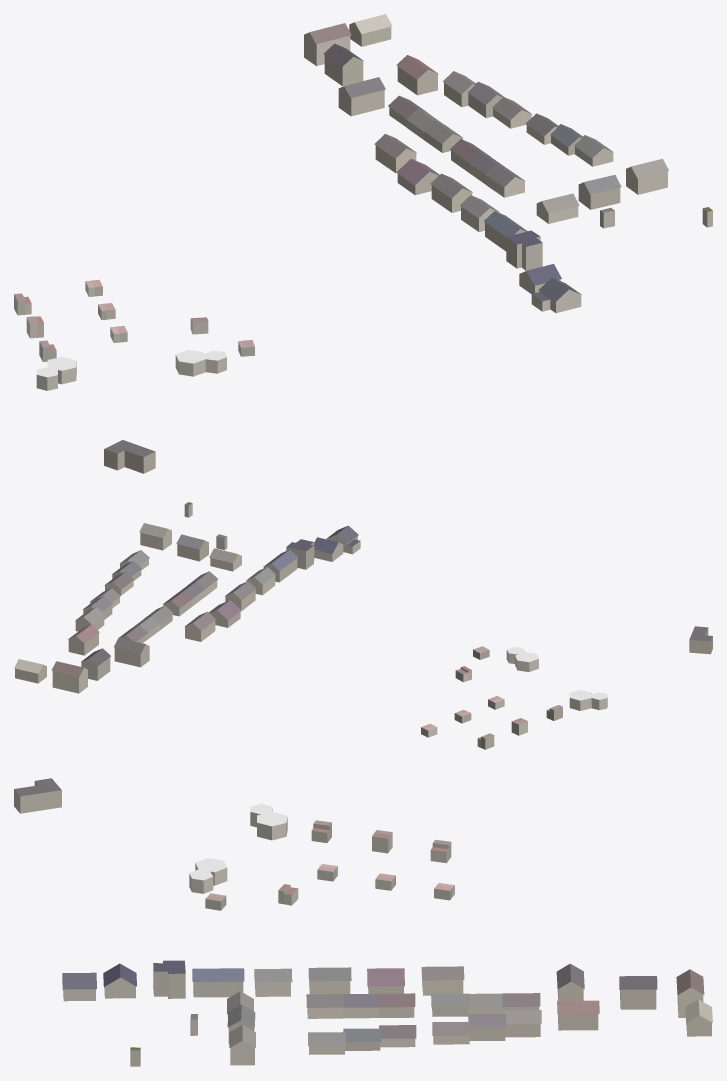
3 renders of one model, top to bottom at view 1: azimuth 30°, elevation 25°; view 2: azimuth 150°, elevation 25°; view 3: azimuth 270°, elevation 25°, orthographic. The views are drawn at different scales.
Visible parts, largest first — view 1: tuile; view 2: tuile; view 3: tuile.
Part boxes in pixels (bbox=[...]): tuile: bbox=[14, 14, 712, 473]; tuile: bbox=[14, 502, 712, 749]; tuile: bbox=[14, 778, 712, 1066].
Size of the model in its own units: 252 by 34.29 by 226.
